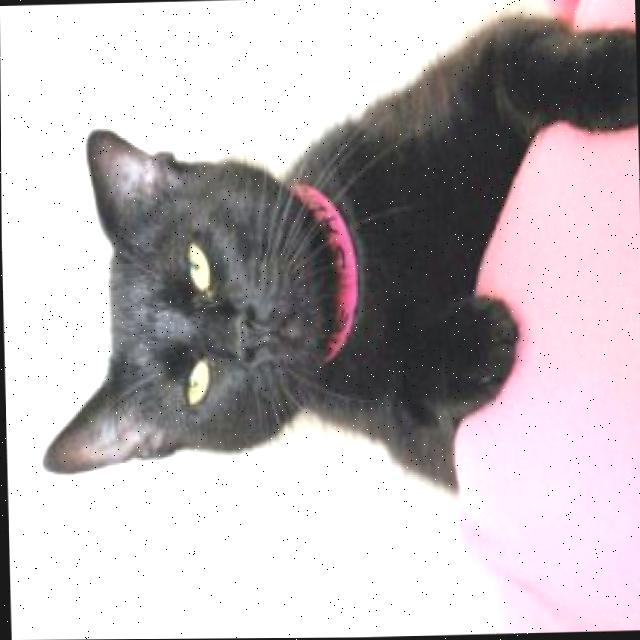Bombay: (24, 7, 640, 508)
